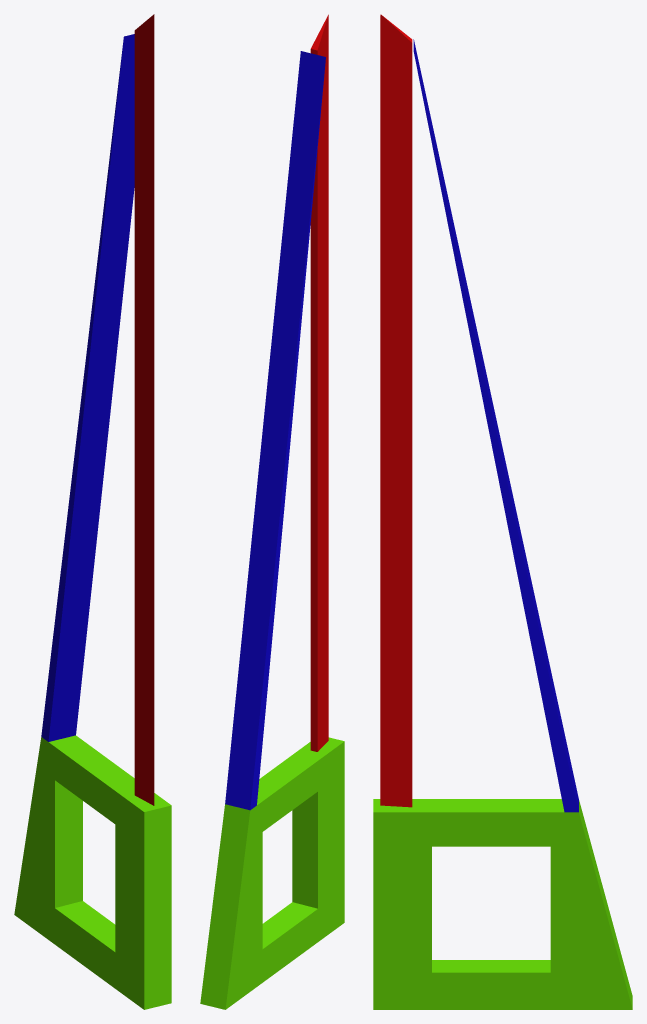
File: saw.fbx
3 renders of one model, left to right at view 1: azimuth 30°, elevation 25°; view 2: azimuth 150°, elevation 25°; view 3: azimuth 270°, elevation 25°, orthographic. The views are drawn at different scales.
Visible parts, largest first — view 1: Cube; view 2: Cube; view 3: Cube.
Boxes of the visible parts, x1,y1,x2,y2 form: Cube: (14, 14, 171, 1009); Cube: (200, 14, 344, 1009); Cube: (373, 14, 632, 1009).
Size of the model in its own units: 0.0974 by 0.4094 by 0.0119.
